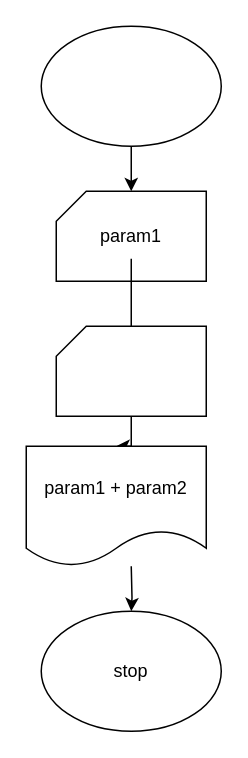
The diagram is 248 pixels wide and 758 high, and some of its shapes have lost their labels. The shapes that lost their labels are listed below. From the top down, each one's box as (x1, y1, x2, y2) in pixels, then its label:
(40, 25, 221, 146): start
(55, 325, 206, 416): param2
